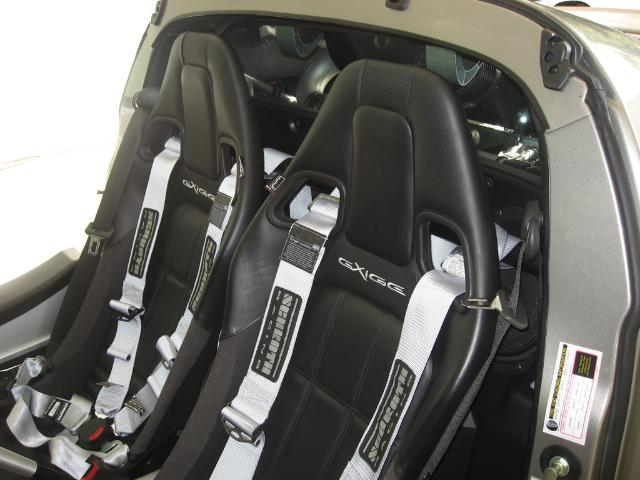Seatbelt: (3, 137, 296, 479), (207, 230, 527, 480)
